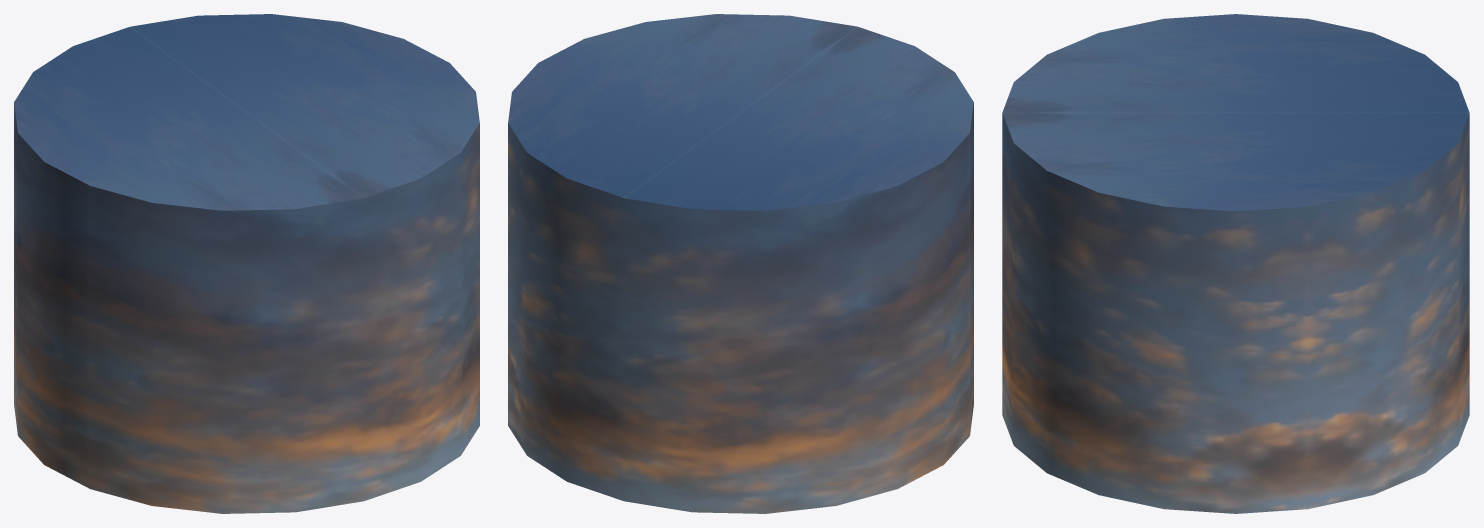
File: circuit_orangeSkyCloud.fbx
3 views of the same model, side by side, from view 1: azimuth 30°, elevation 25°; view 2: azimuth 150°, elevation 25°; view 3: azimuth 270°, elevation 25° (orthographic).
Parts seen in each view (by area): view 1: pCylinder35; view 2: pCylinder35; view 3: pCylinder35.
Part boxes in pixels (x1,y1,x2,y2): pCylinder35: (14,14,479,513); pCylinder35: (508,14,973,513); pCylinder35: (1002,14,1469,513).
Size of the model in its own units: 1400 by 1000 by 1400.
Materials: 1 (1 with a texture image).
